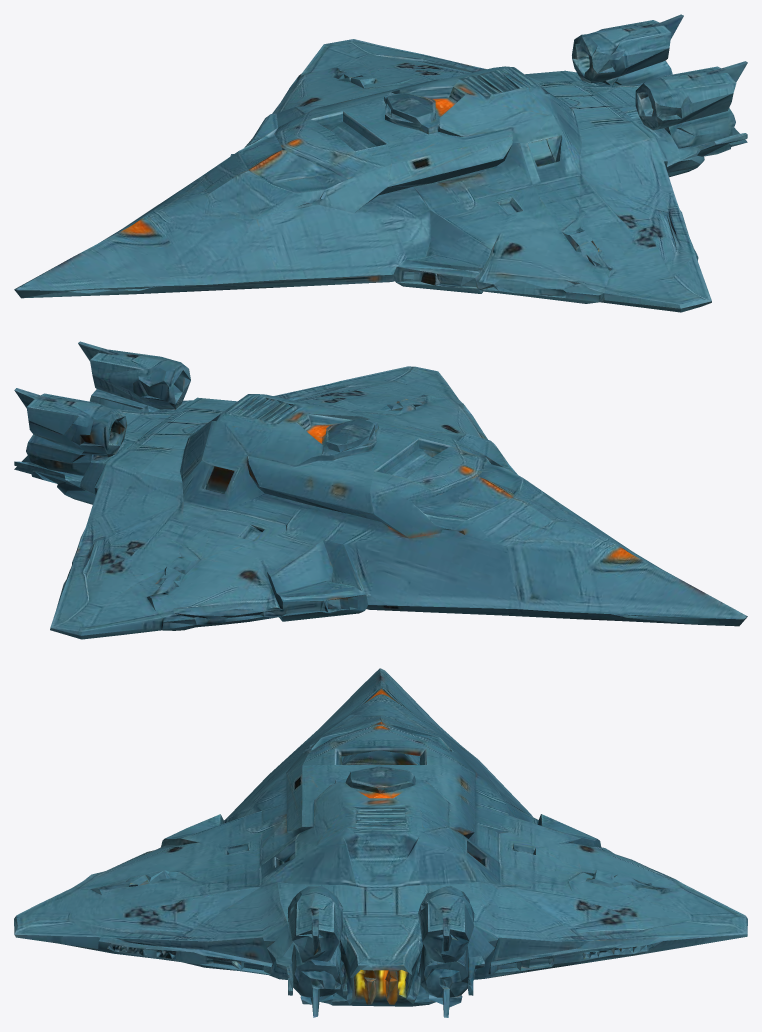
File: nation-p-cruiser.glb
3 renders of one model, top to bottom at view 1: azimuth 30°, elevation 25°; view 2: azimuth 150°, elevation 25°; view 3: azimuth 270°, elevation 25°, orthographic. The views are drawn at different scales.
Size of the model in its own units: 1.9 by 0.2882 by 1.68.
1 material, 1 textured.
